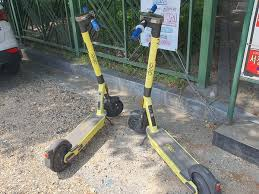kick_board: (128, 4, 222, 194), (41, 10, 123, 169)
kick_body: (44, 138, 68, 169)
kick_handler: (132, 4, 163, 36), (74, 11, 96, 31)
kick_neck: (82, 34, 107, 92), (142, 38, 158, 97)
kick_wheel: (189, 166, 220, 194), (104, 93, 123, 116), (126, 106, 145, 129)
